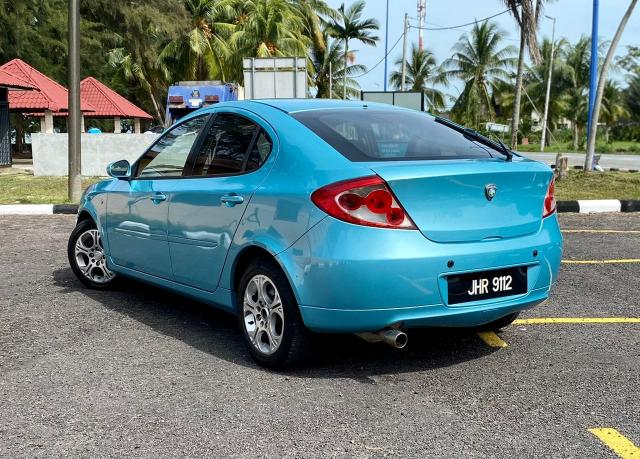License_Plate: (454, 275, 533, 299)
